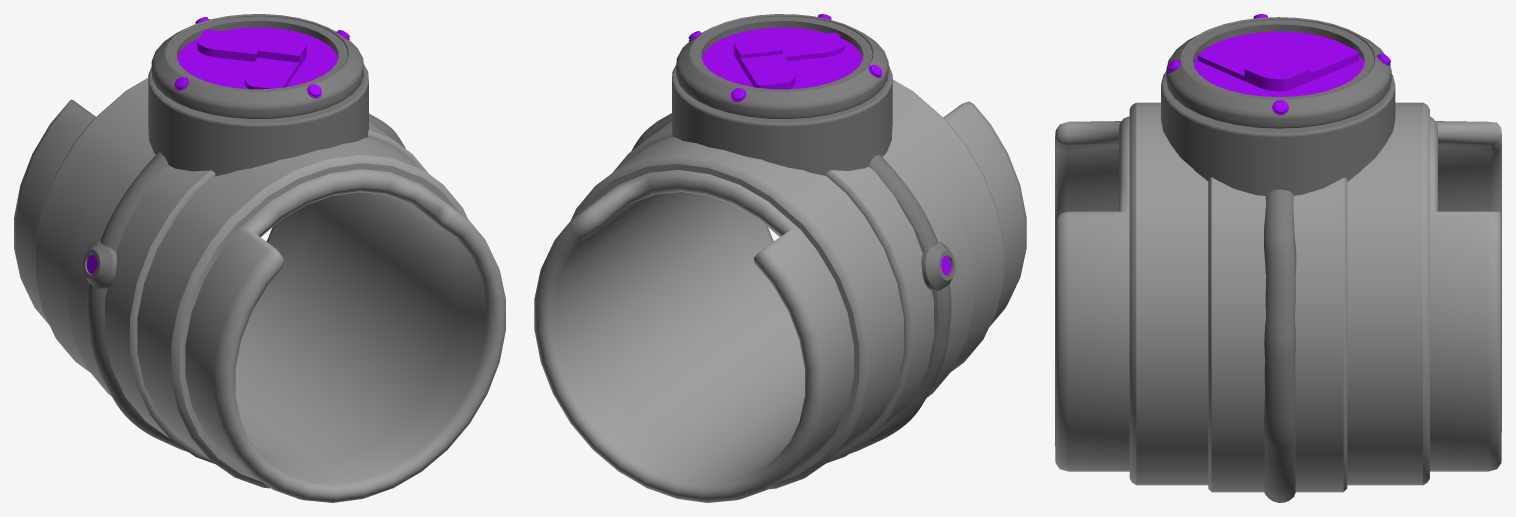
File: Imagine Bracers.fbx
The picture shows the model from 3 angles, left to right: view 1: azimuth 30°, elevation 25°; view 2: azimuth 150°, elevation 25°; view 3: azimuth 270°, elevation 25°; orthographic projection. The views are drawn at different scales.
Visible parts, largest first — view 1: Watch, Plastic3, Designs; view 2: Watch, Plastic3, Designs; view 3: Watch, Plastic3, Designs.
Part boxes in pixels (x1,y1,x2,y2): Watch: (14,78,505,502); Plastic3: (82,14,405,451); Designs: (86,17,349,273); Watch: (534,79,1026,502); Plastic3: (631,14,955,453); Designs: (688,14,951,275); Watch: (1055,102,1501,492); Plastic3: (1161,17,1395,502); Designs: (1167,14,1390,115).
Size of the model in its own units: 1100 by 1234 by 1178.
